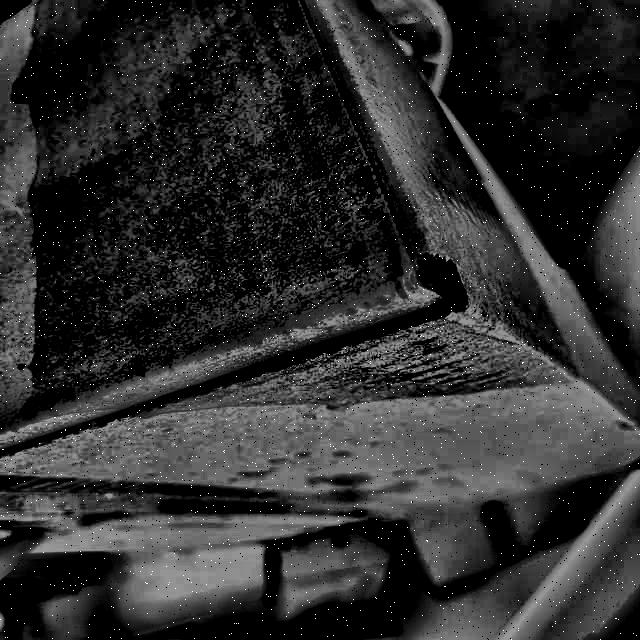box: (0, 1, 639, 562)
wet: (25, 1, 538, 437)
